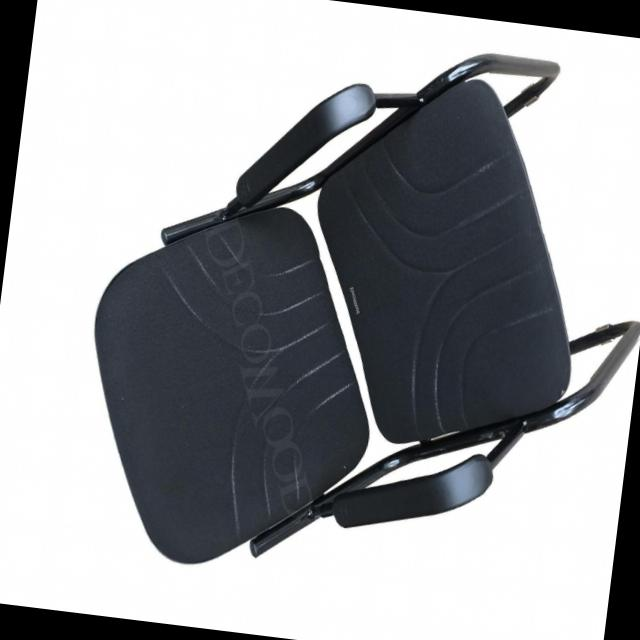Chair: (62, 4, 640, 616)
